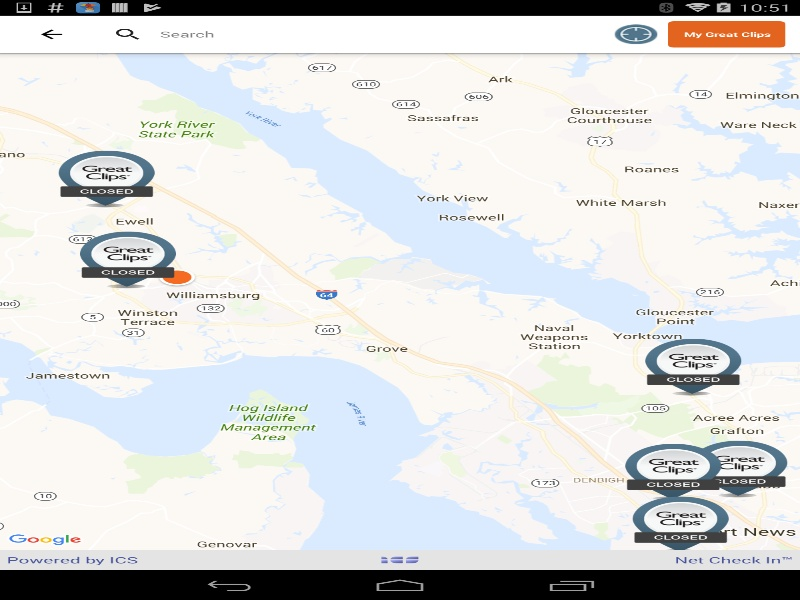Button: (668, 21, 785, 47), (10, 15, 85, 53)
Input: (149, 23, 593, 45)
